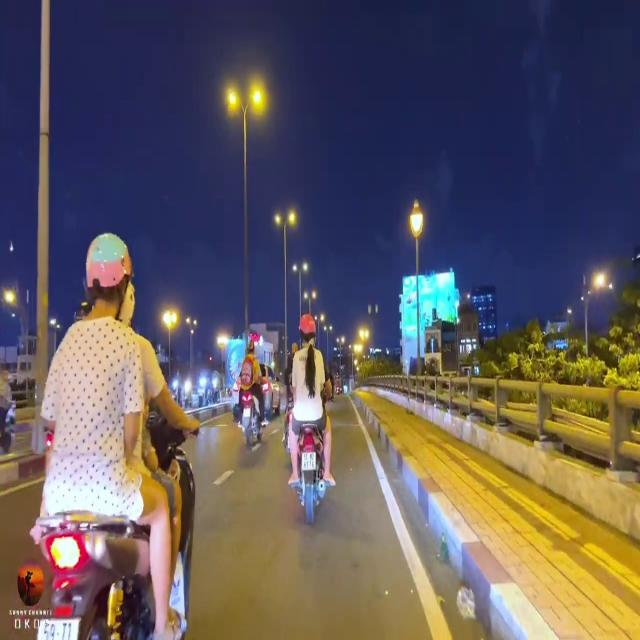bien_trang: (299, 448, 317, 474)
